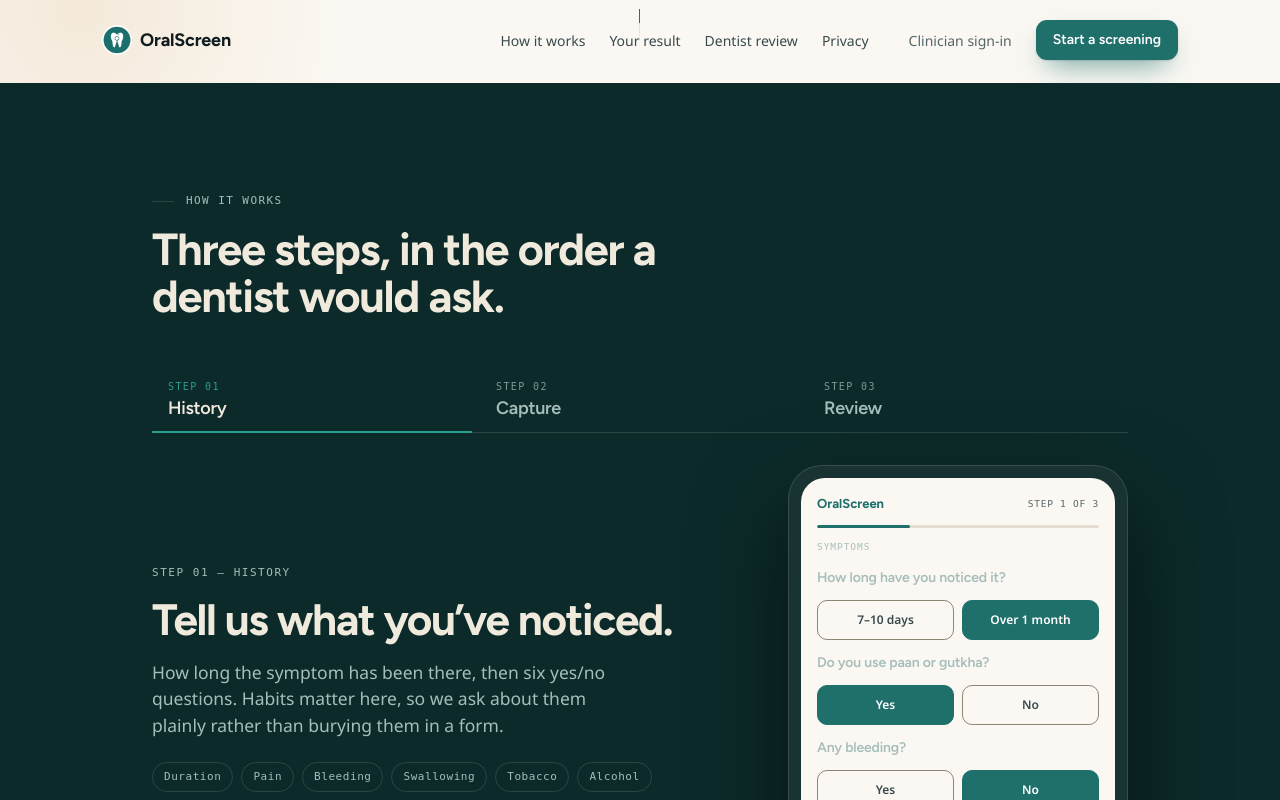
Test: the landing page › describes the screening with the questions and angles the app actually asks for
(page scrolled)
Expected: the list item "Tobacco" is shown, x1=495 y1=762 x2=569 y2=792
Expected: the list item "Bleeding" is shown, x1=302 y1=762 x2=384 y2=792
Click the tab "STEP 02 Capture": (518,386) x1=480 y1=369 x2=800 y2=433
(page scrolled)
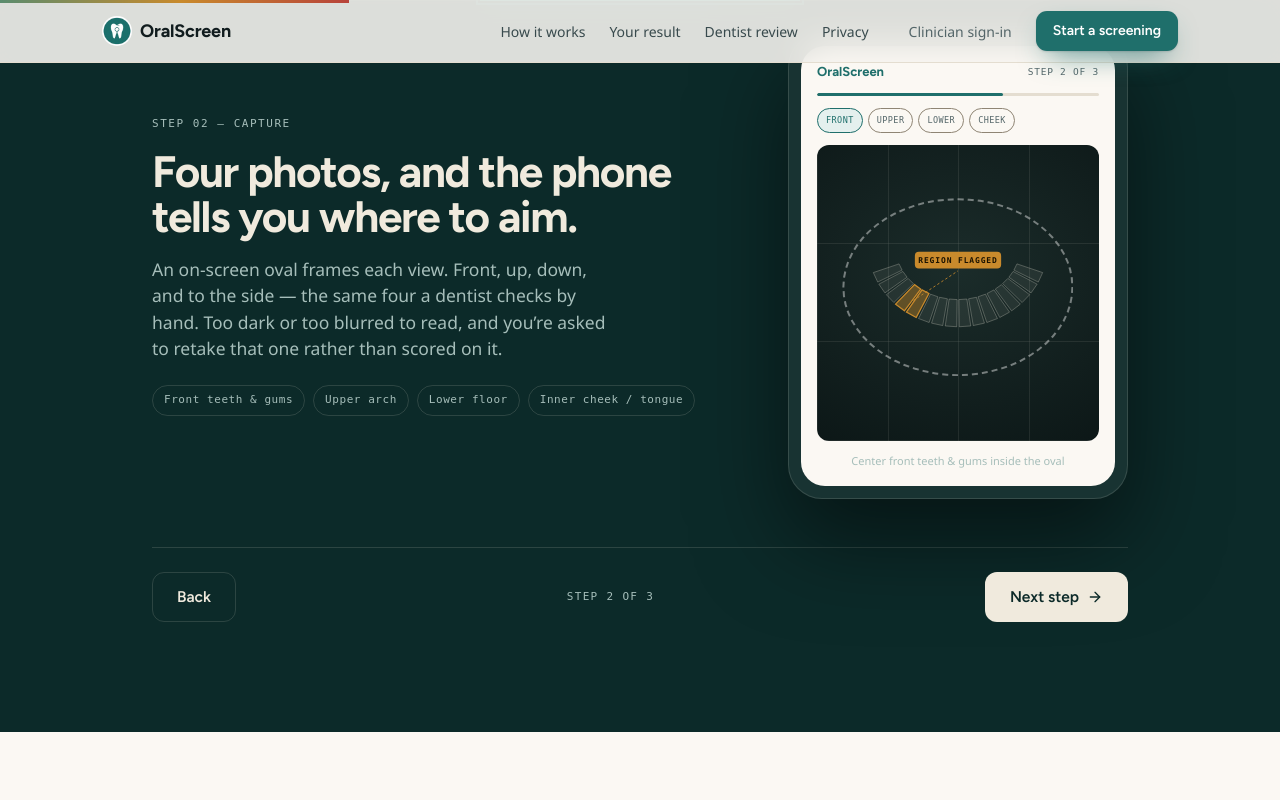
Expected: the list item "Front teeth & gums" is shown, x1=152 y1=385 x2=305 y2=416
Expected: the list item "Upper arch" is shown, x1=313 y1=385 x2=409 y2=416
Expected: the list item "Lower floor" is shown, x1=417 y1=385 x2=520 y2=416
